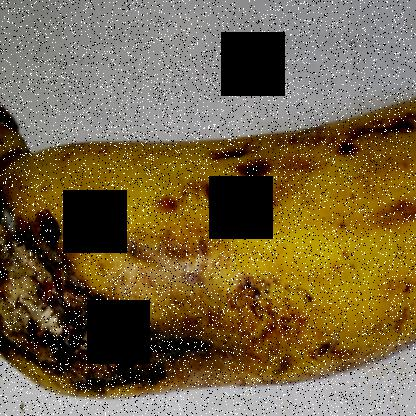rotten: (1, 97, 235, 409)
